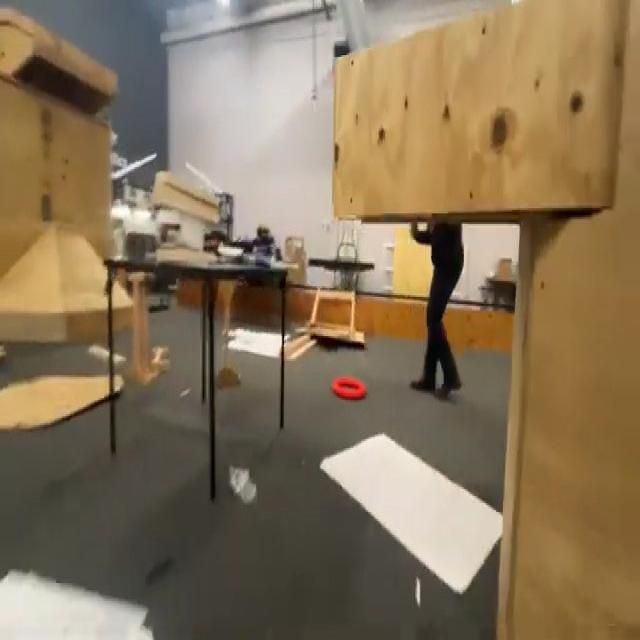note: (331, 376, 366, 400)
